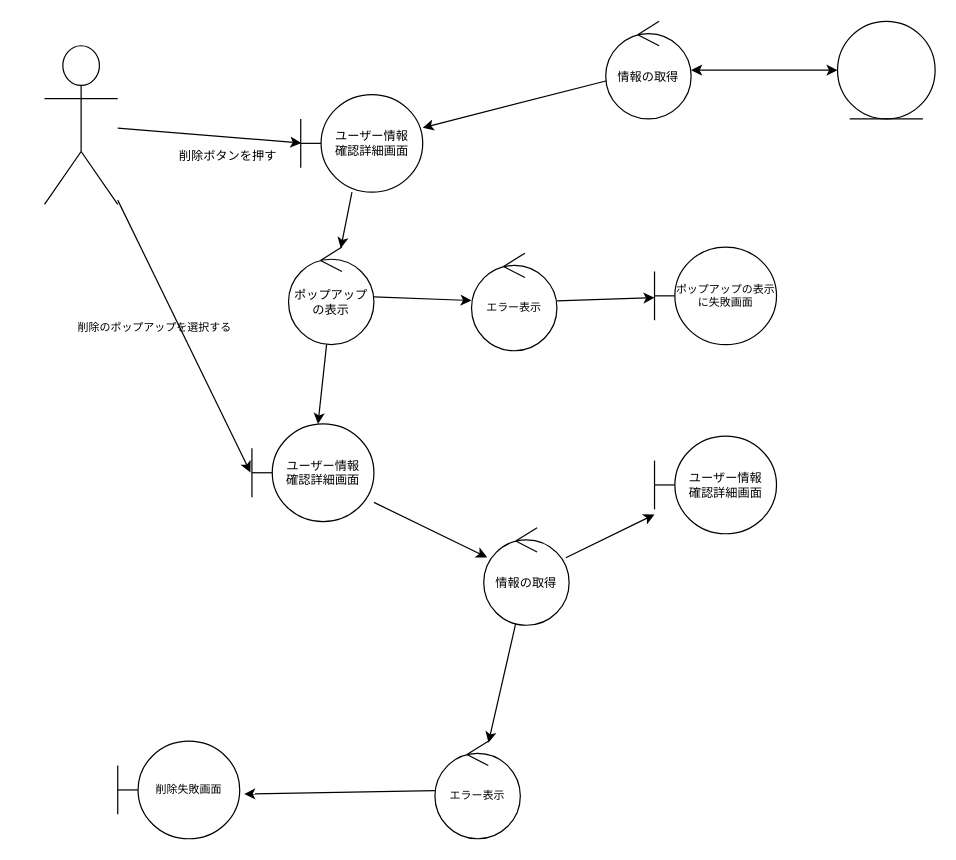
The diagram is 956 pixels wide and 860 high, and some of its shapes have lost their labels. Here are the shapes that lost their labels. From the top down, the box of each, then its label:
(836, 20, 935, 119): 登録情報
(43, 45, 118, 204): システム管理者
